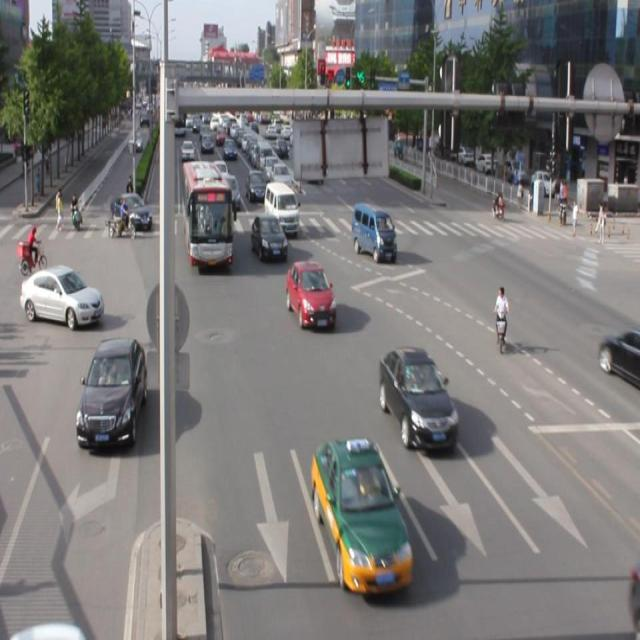car: (312, 439, 412, 594), (380, 346, 457, 452), (76, 336, 146, 450), (286, 258, 336, 332), (598, 329, 640, 389), (251, 213, 287, 262)
truck: (350, 202, 394, 260), (264, 181, 298, 235)
van: (183, 162, 232, 270)
